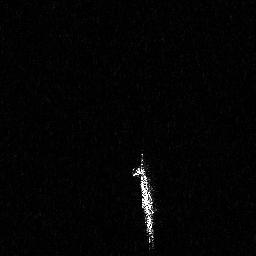ship: (129, 148, 159, 252)
